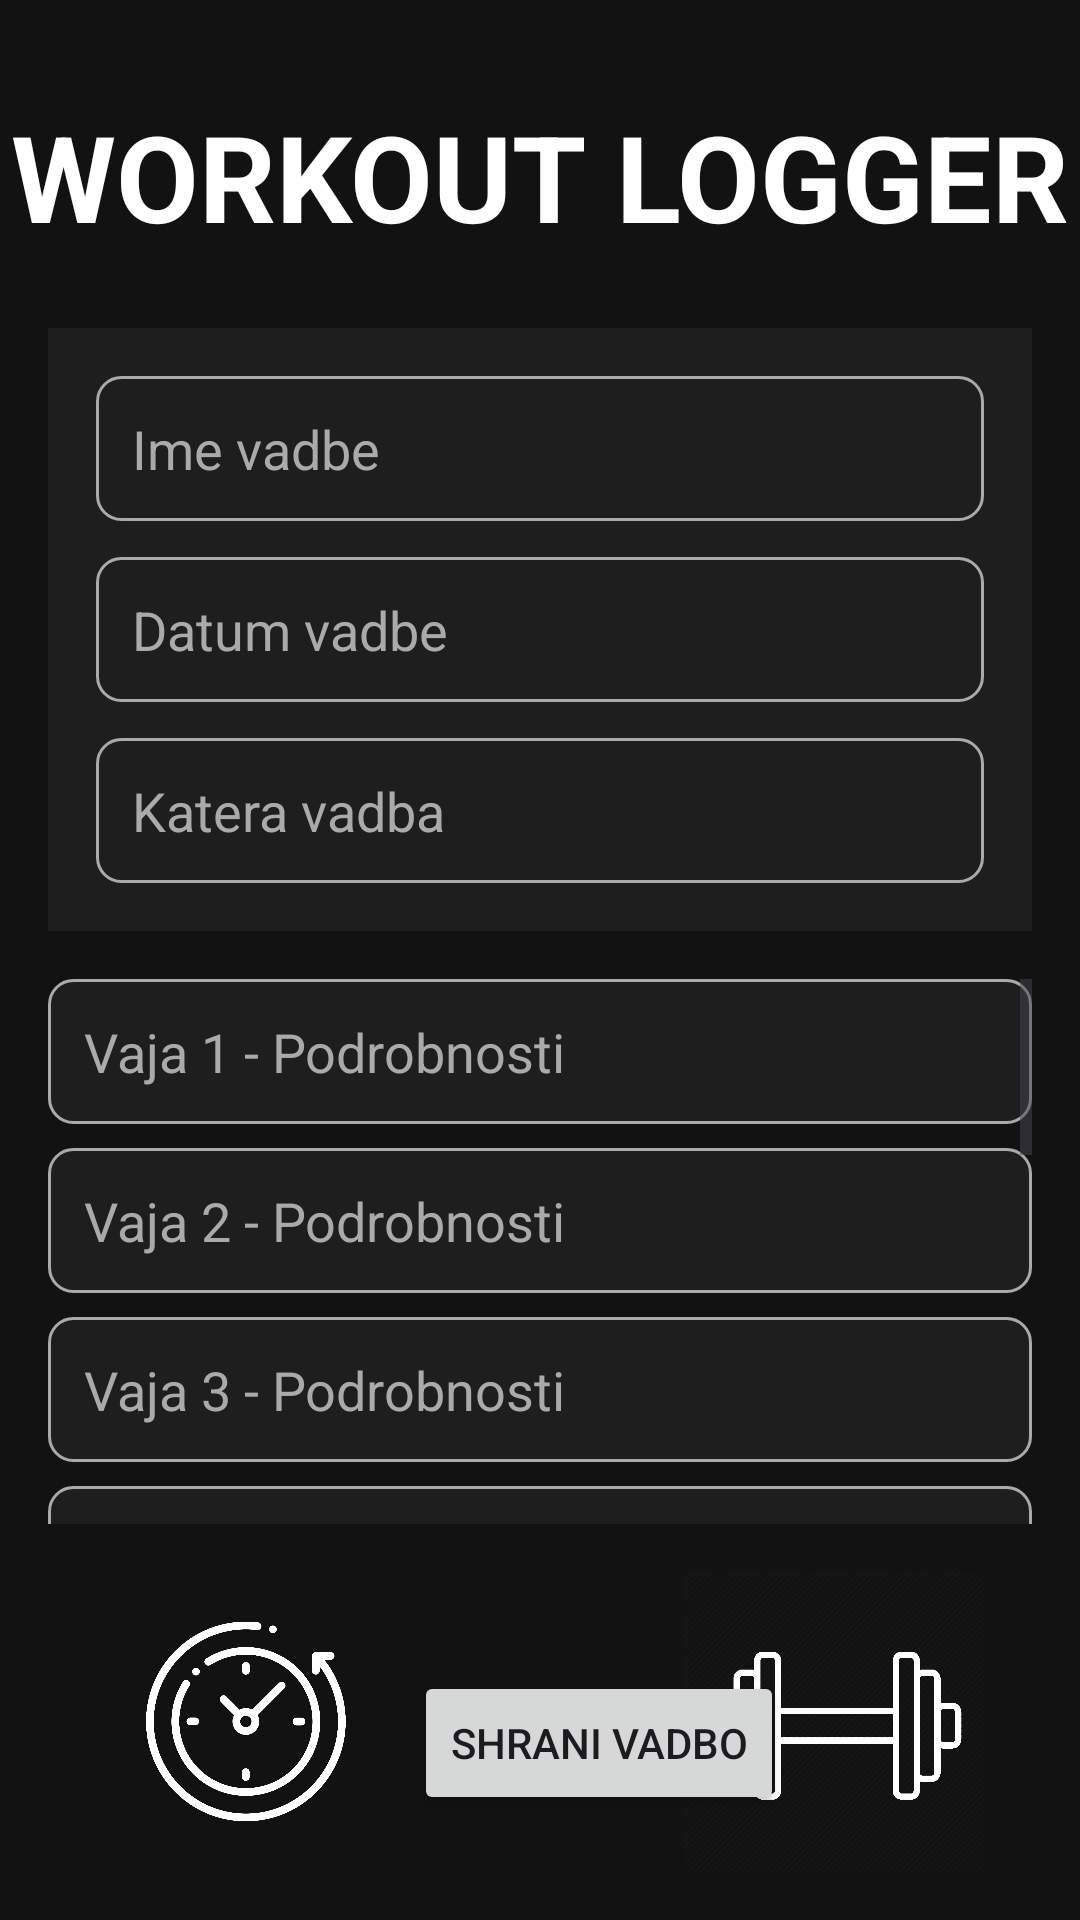

Screen size 1080 × 1920. Icon name, then its center in pixels as [x,y]:
Clock Icon: [246,1721]
